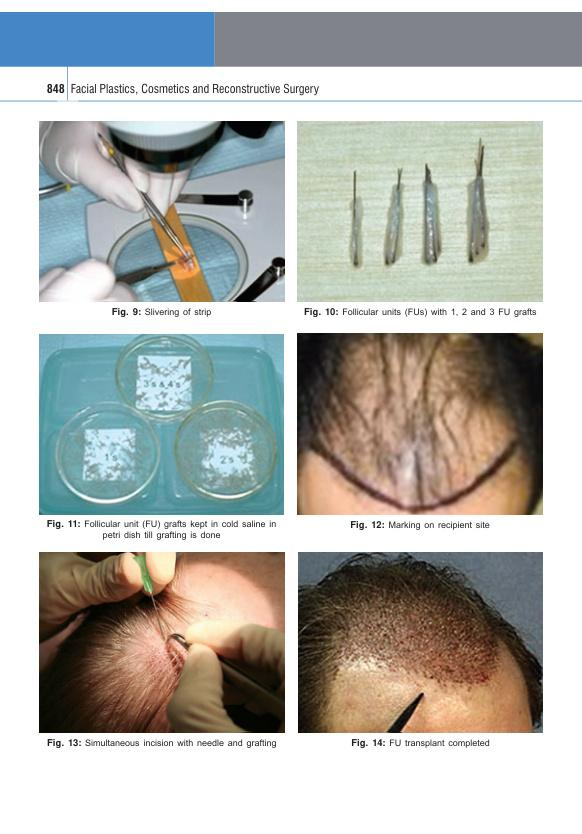caption: (45, 518, 277, 541), (303, 306, 537, 318), (46, 737, 277, 749), (350, 737, 491, 749), (349, 520, 491, 531), (111, 307, 212, 318)
header: (69, 82, 320, 97)
image: (296, 331, 544, 517), (39, 120, 286, 303), (38, 551, 286, 733), (298, 550, 544, 733), (296, 121, 544, 302), (39, 333, 285, 514)
